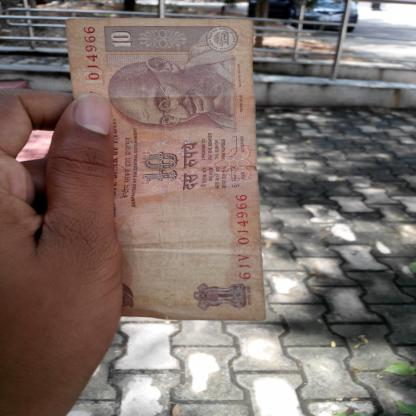Old10Front: (65, 18, 267, 322)
